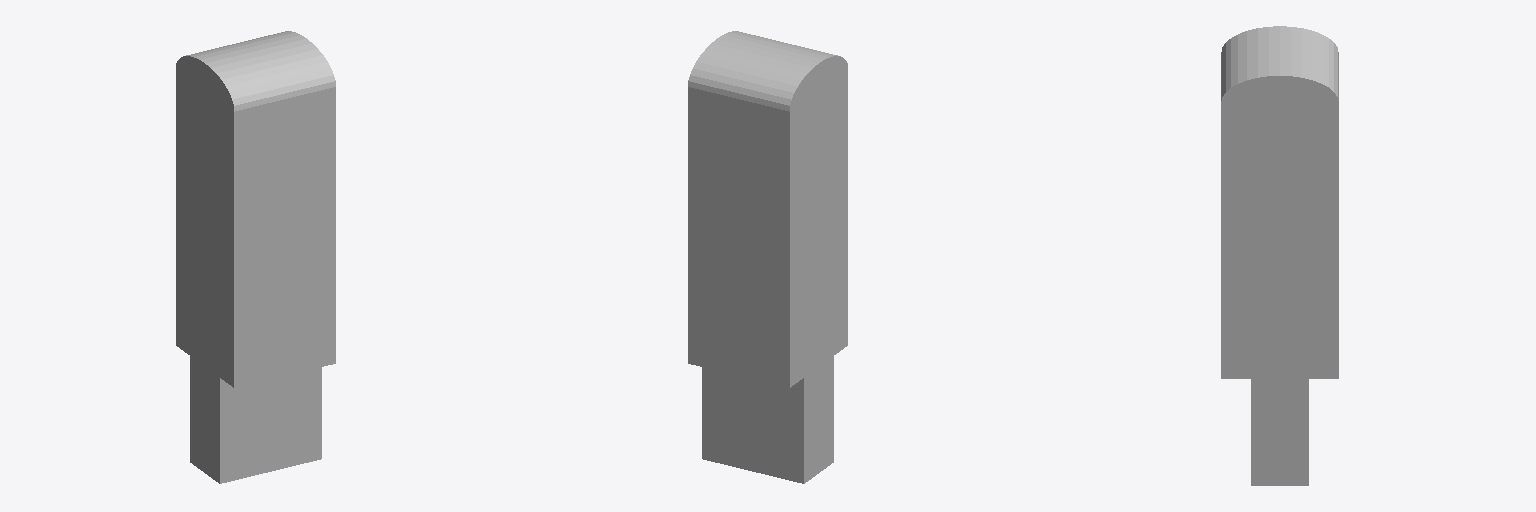
File: body_l_distal_pinvround.obj
3 renders of one model, left to right at view 1: azimuth 30°, elevation 25°; view 2: azimuth 150°, elevation 25°; view 3: azimuth 270°, elevation 25°, orthographic.
Visible parts, largest first — view 1: body_l_distal_pinvround_Cube.002; view 2: body_l_distal_pinvround_Cube.002; view 3: body_l_distal_pinvround_Cube.002.
Part boxes in pixels (left/top/right/bottom): body_l_distal_pinvround_Cube.002: left=176, top=31, right=335, bottom=483; body_l_distal_pinvround_Cube.002: left=688, top=31, right=847, bottom=483; body_l_distal_pinvround_Cube.002: left=1221, top=26, right=1338, bottom=485.
Bounding box in the file's own units: 0.02 × 0.077 × 0.02.